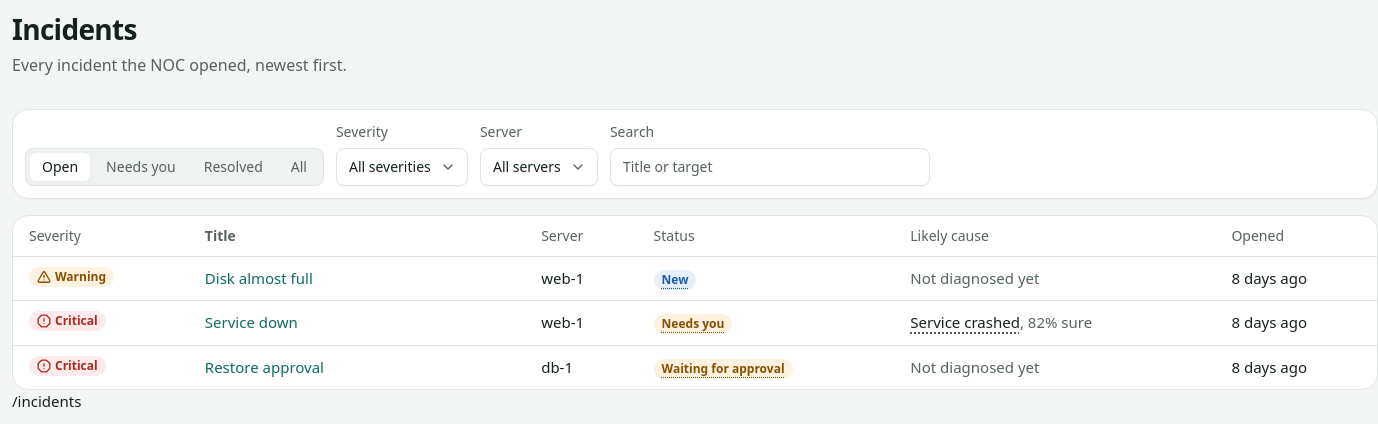
Test: IncidentsPage › shows only the incidents that need you when that chip is chosen, and records it in the URL
Expected: the link "Disk almost full" is shown, top-left (205, 268), bottom-right (313, 288)
Click the button "Needs you". click: coordinates (141, 167)
box: top-left (94, 153), bottom-right (188, 181)
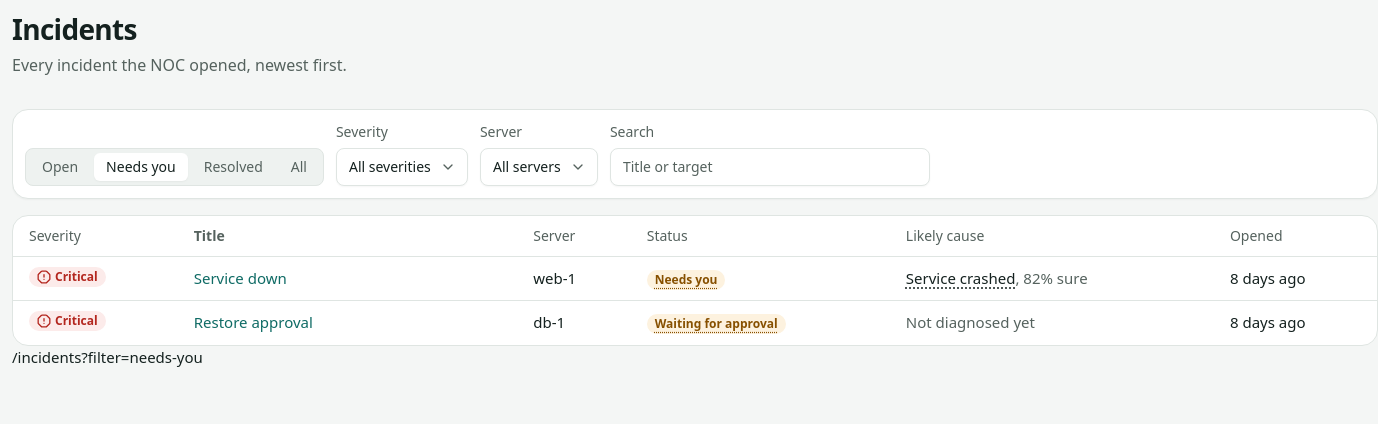
Expected: the text with test id "location" reads "/incidents?filter=needs-you", top-left (12, 346), bottom-right (203, 366)
